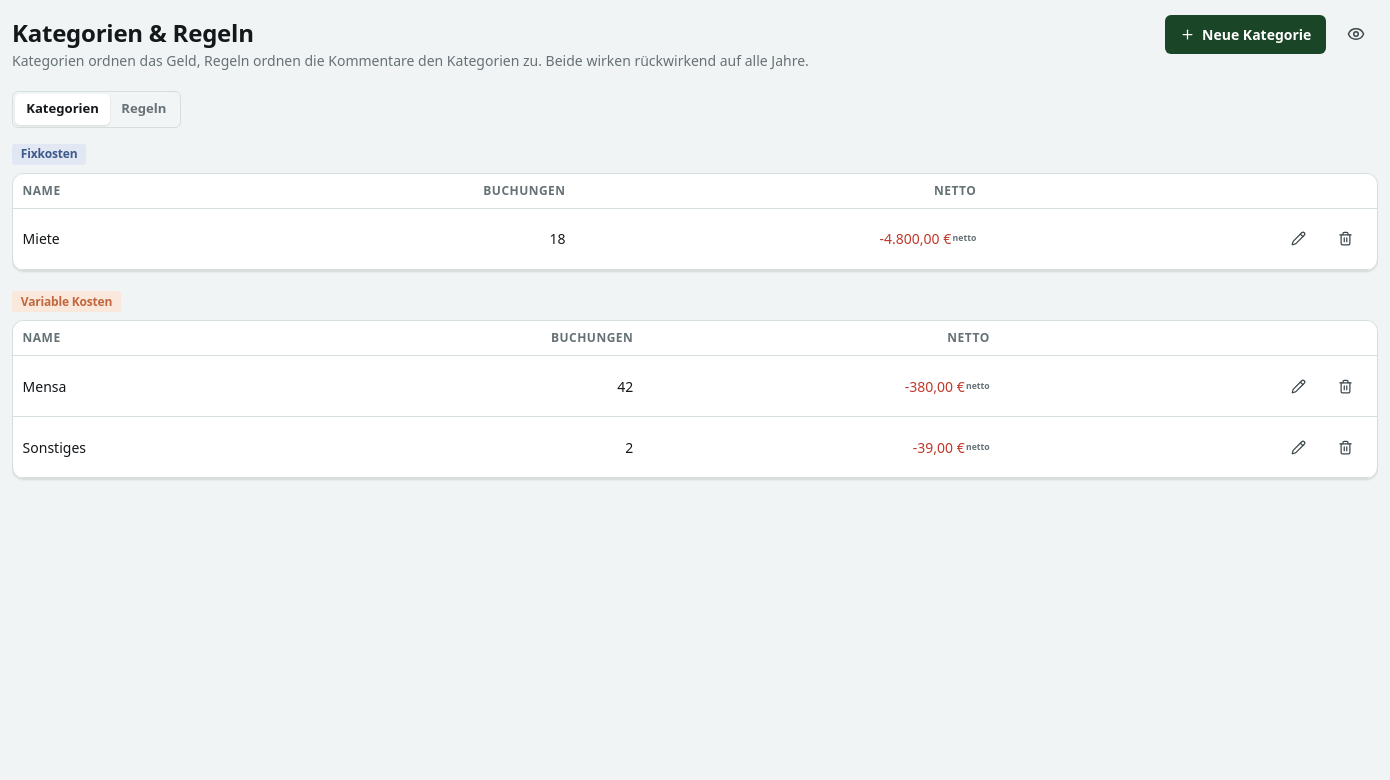
Test case: categories › deletes with reassignTo once a target is chosen
Check: the text "Mensa" is shown, box [23,377,66,396]
Click the button named "Löschen — Mensa" at (1345, 386), box [1323,364,1367,408]
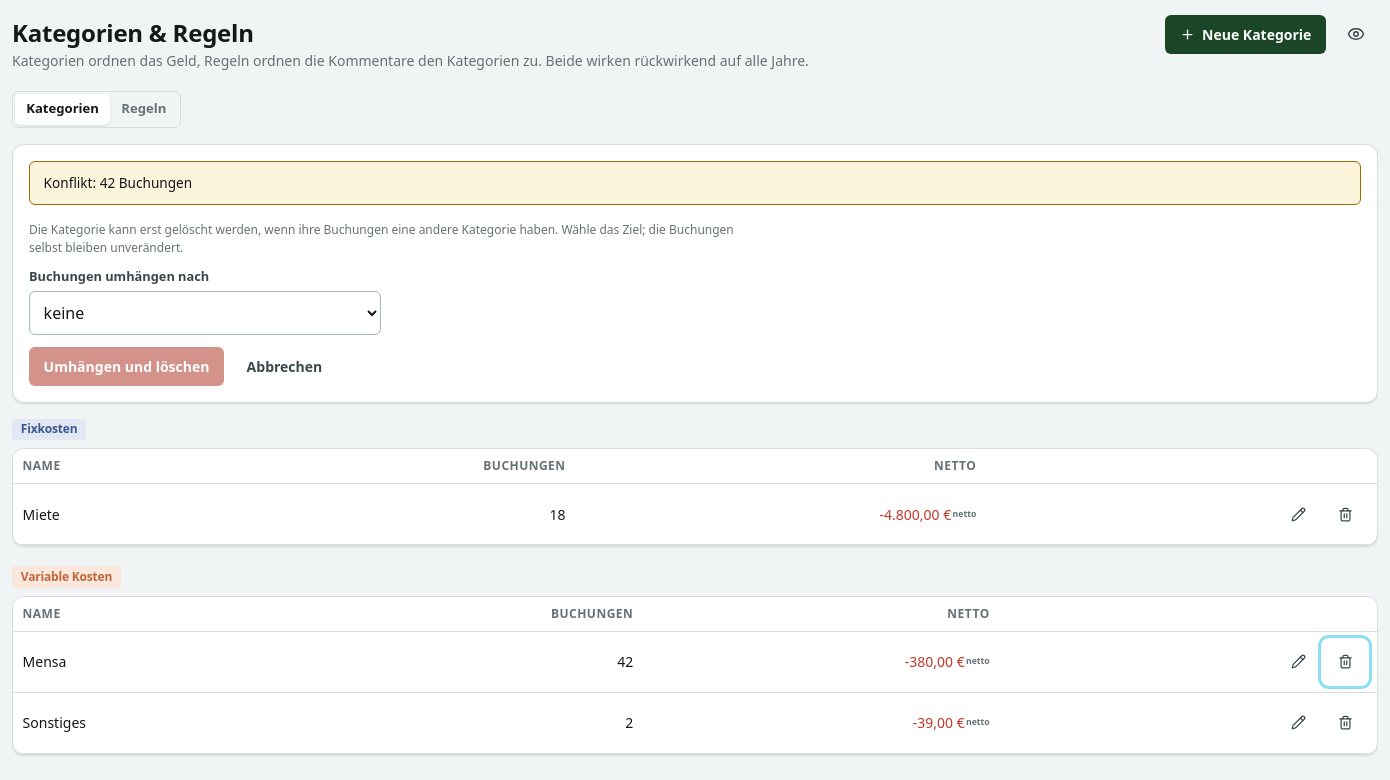
Check: the dropdown labelled "Buchungen umhängen nach" is shown
Select "Sonstiges" in the dropdown labelled "Buchungen umhängen nach" at (205, 313), box [29,291,381,335]
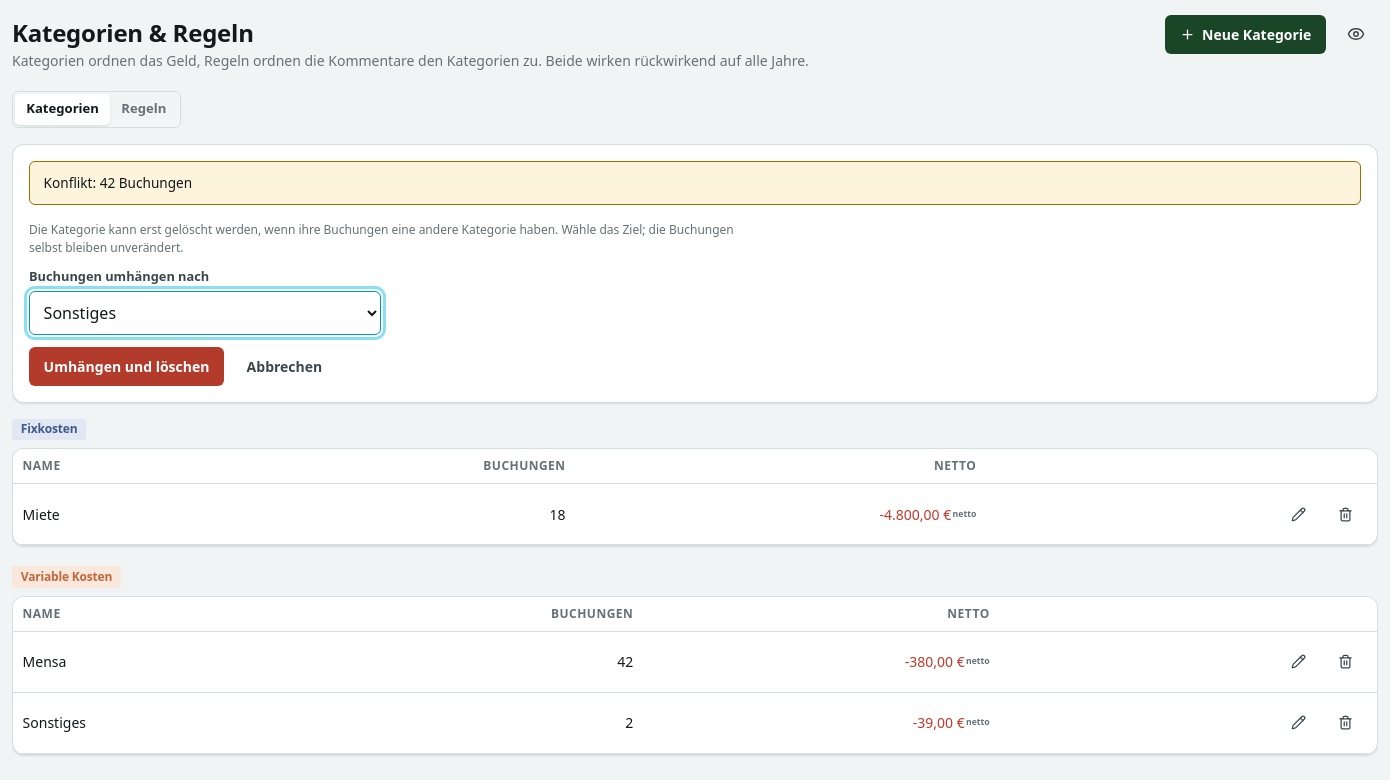
Click the button "Umhängen und löschen" at (126, 366), box [29,347,224,386]
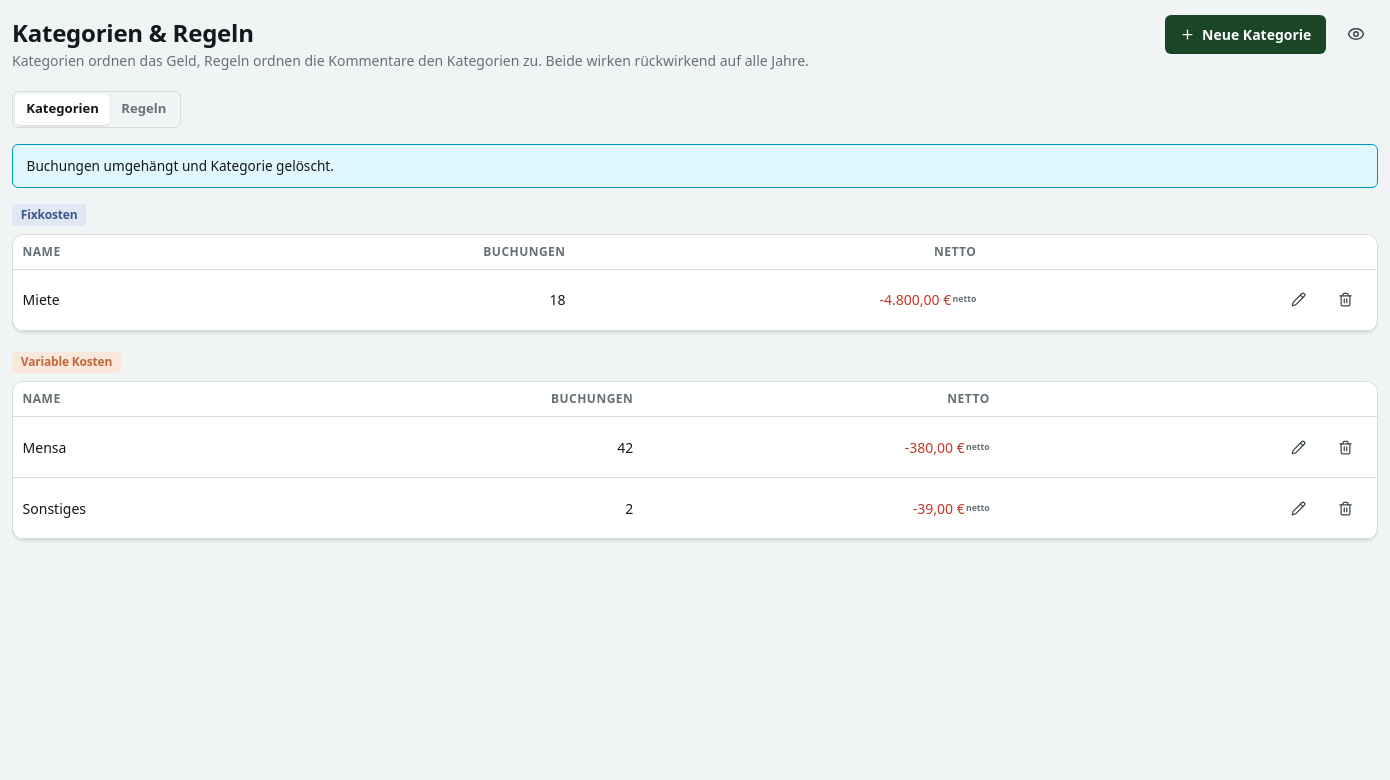
Check: the text "Buchungen umgehängt und Kategorie gelöscht." is shown, box [27,156,334,176]
